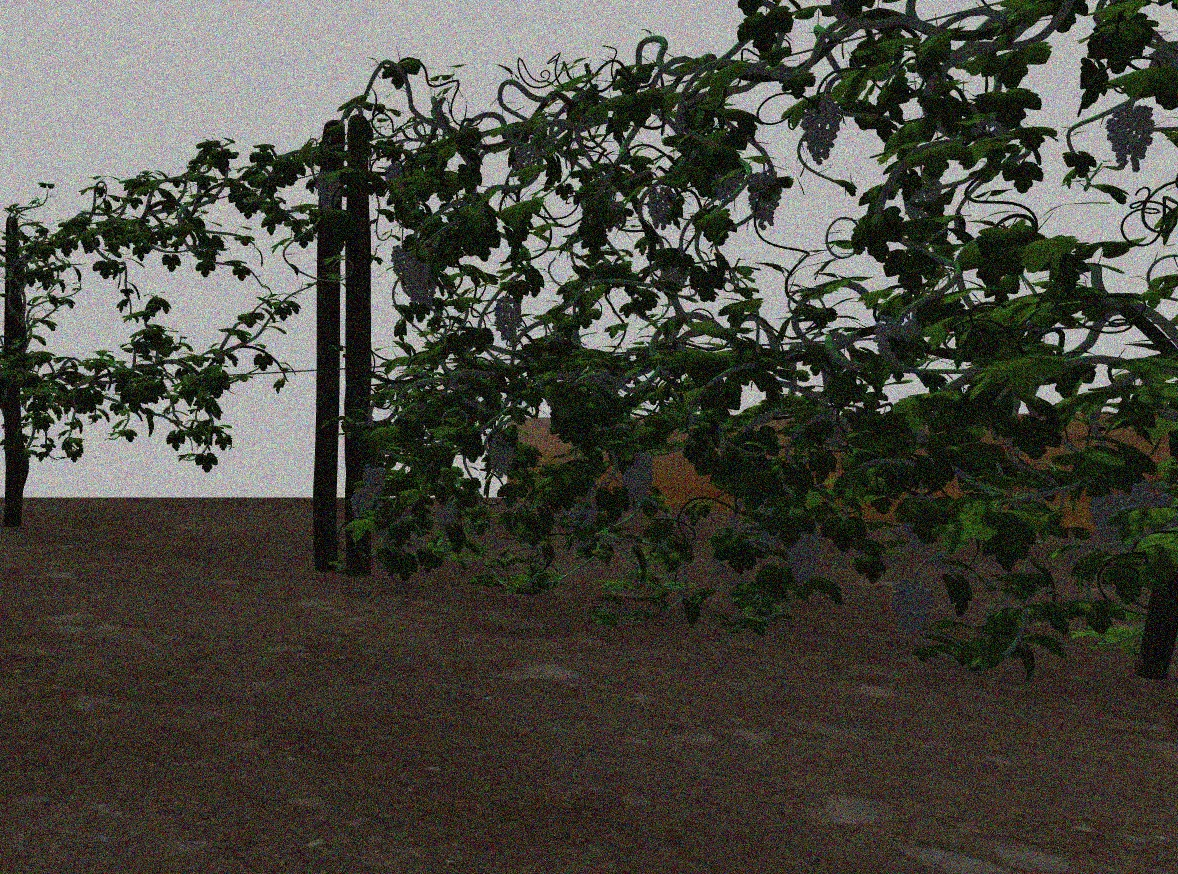grape: (1106, 104, 1158, 173), (802, 98, 842, 166), (891, 579, 937, 635), (784, 525, 823, 588), (1086, 495, 1129, 549), (875, 321, 924, 362), (749, 171, 783, 230), (624, 451, 655, 513), (1129, 481, 1173, 513), (486, 432, 515, 478), (648, 187, 676, 231), (493, 296, 520, 341), (404, 262, 432, 303), (314, 173, 342, 213), (568, 503, 599, 532), (389, 244, 415, 278), (350, 487, 374, 520), (432, 500, 458, 529), (363, 465, 386, 497)
